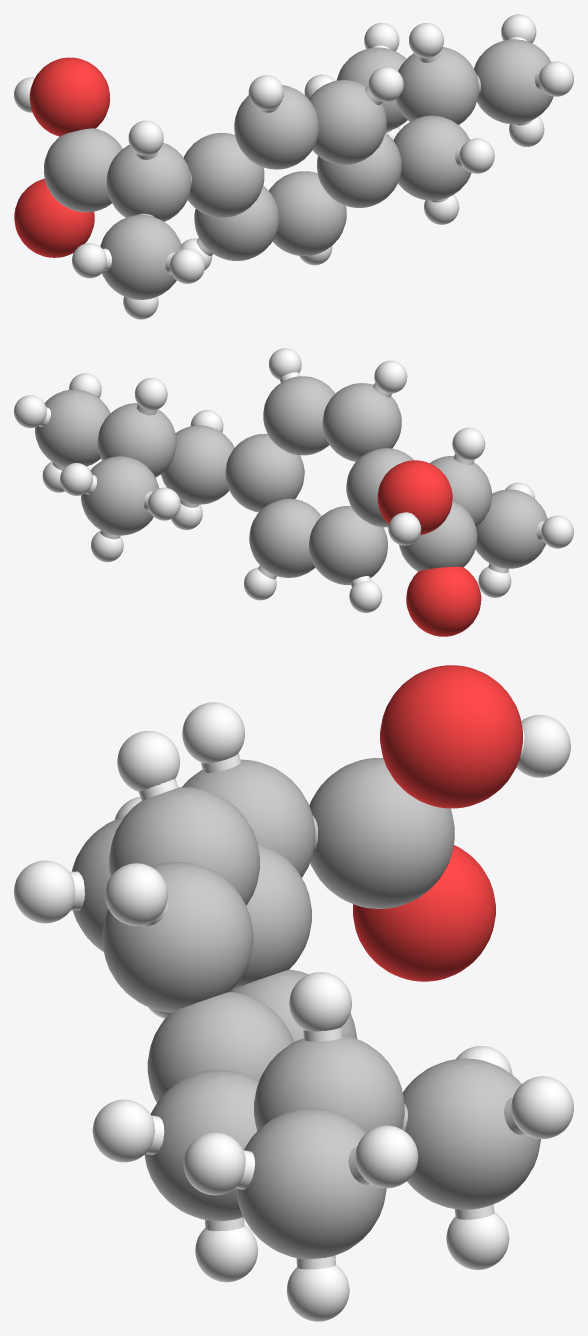
Rendered from ibuprofeno.glb.
The picture shows the model from 3 angles, top to bottom: view 1: azimuth 30°, elevation 25°; view 2: azimuth 150°, elevation 25°; view 3: azimuth 270°, elevation 25°; orthographic projection. The views are drawn at different scales.
Visible parts, largest first — view 1: Carbon_ball_22, Carbon_ball_4, Carbon_ball_18, Carbon_ball_20, Carbon_ball_10, Carbon_ball_2, Oxygen_ball_2, Carbon_ball_12, Carbon_ball_24, Carbon_ball_6, Carbon_ball_14, Oxygen_ball (+17 smaller); view 2: Carbon_ball_10, Carbon_ball, Carbon_ball_8, Carbon_ball_16, Oxygen_ball, Carbon_ball_6, Carbon_ball_2, Carbon_ball_22, Carbon_ball_18, Carbon_ball_12, Oxygen_ball_2, Carbon_ball_14 (+20 smaller); view 3: Oxygen_ball_2, Carbon_ball_18, Carbon_ball_24, Carbon_ball_16, Carbon_ball_2, Oxygen_ball, Carbon_ball_10, Carbon_ball_14, Carbon_ball_8, Carbon_ball_12, Carbon_ball_20, Carbon_ball_4 (+17 smaller).
Boxes of the visible parts, x1=… form: Carbon_ball_22: x1=100, y1=215, x2=182, y2=299; Carbon_ball_4: x1=183, y1=133, x2=264, y2=217; Carbon_ball_18: x1=474, y1=39, x2=553, y2=124; Carbon_ball_20: x1=106, y1=142, x2=191, y2=221; Carbon_ball_10: x1=234, y1=85, x2=318, y2=169; Carbon_ball_2: x1=309, y1=80, x2=386, y2=164; Oxygen_ball_2: x1=29, y1=57, x2=109, y2=136; Carbon_ball_12: x1=393, y1=115, x2=471, y2=200; Carbon_ball_24: x1=44, y1=128, x2=122, y2=212; Carbon_ball_6: x1=269, y1=171, x2=346, y2=255; Carbon_ball_14: x1=395, y1=47, x2=478, y2=124; Oxygen_ball: x1=14, y1=178, x2=94, y2=257; Carbon_ball_10: x1=322, y1=383, x2=401, y2=461; Carbon_ball: x1=309, y1=506, x2=387, y2=584; Carbon_ball_8: x1=225, y1=434, x2=304, y2=512; Carbon_ball_16: x1=81, y1=456, x2=159, y2=535; Oxygen_ball: x1=406, y1=566, x2=481, y2=636; Carbon_ball_6: x1=249, y1=498, x2=321, y2=577; Carbon_ball_2: x1=263, y1=376, x2=335, y2=455; Carbon_ball_22: x1=475, y1=489, x2=547, y2=568; Carbon_ball_18: x1=35, y1=389, x2=110, y2=467; Carbon_ball_12: x1=161, y1=425, x2=234, y2=504; Oxygen_ball_2: x1=377, y1=460, x2=452, y2=534; Carbon_ball_14: x1=97, y1=403, x2=176, y2=477; Oxygen_ball_2: x1=380, y1=665, x2=522, y2=808; Carbon_ball_18: x1=235, y1=1108, x2=386, y2=1258; Carbon_ball_24: x1=309, y1=758, x2=454, y2=908; Carbon_ball_16: x1=403, y1=1058, x2=540, y2=1209; Carbon_ball_2: x1=102, y1=862, x2=253, y2=1012; Oxygen_ball: x1=353, y1=845, x2=495, y2=981; Carbon_ball_10: x1=109, y1=787, x2=259, y2=905; Carbon_ball_14: x1=254, y1=1035, x2=404, y2=1132; Carbon_ball_8: x1=147, y1=991, x2=293, y2=1102; Carbon_ball_12: x1=144, y1=1070, x2=258, y2=1221; Carbon_ball_20: x1=182, y1=759, x2=315, y2=877; Carbon_ball_4: x1=233, y1=843, x2=311, y2=989.
Size of the model in its own units: 11.04 by 4.86 by 5.7.
